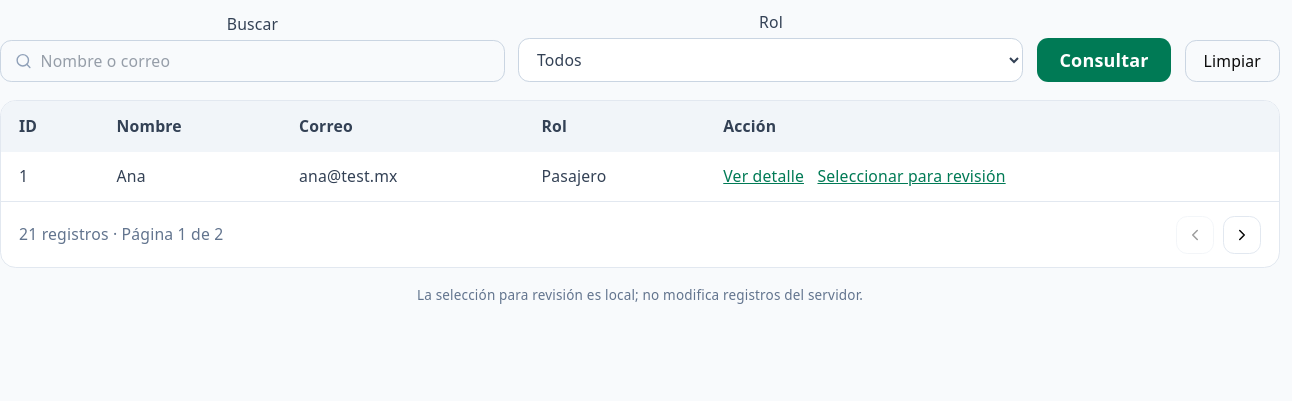
Scenario: Gestión administrativa de usuarios › permite paginar y muestra estados vacío y error
Expected: the text "Ana" is shown, x1=99 y1=151 x2=281 y2=201
Click the button named "Página siguiente" at (1242, 234), box x1=1223 y1=216 x2=1261 y2=254
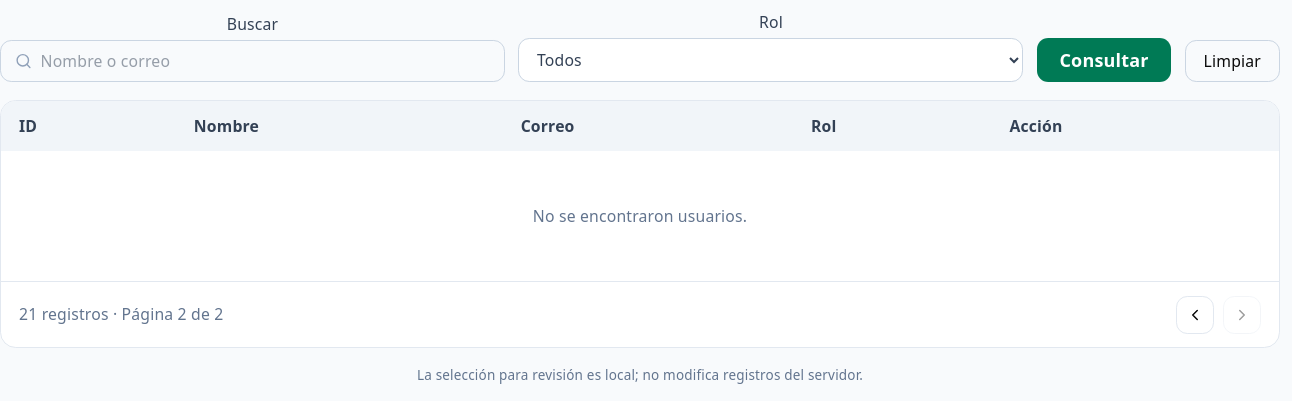
Expected: the text "No se encontraron usuarios." is shown, x1=1 y1=150 x2=1279 y2=281
Click the button named "Página anterior" at (1195, 314), box x1=1176 y1=296 x2=1214 y2=334
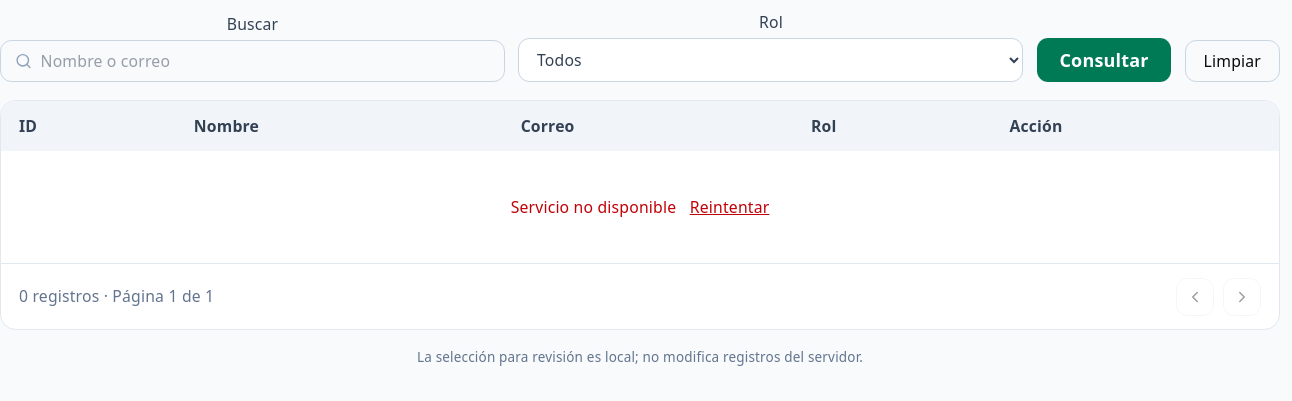
Expected: the message shows "Servicio no disponible", x1=511 y1=196 x2=676 y2=218
